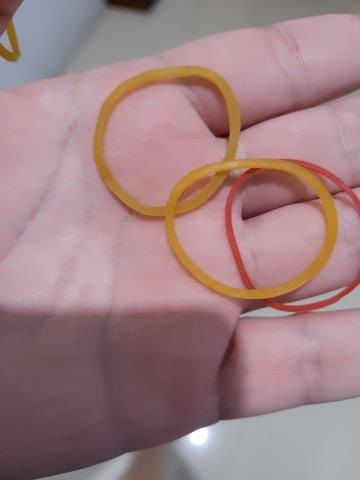karet: (91, 65, 241, 224), (168, 158, 338, 298), (228, 160, 360, 316)
